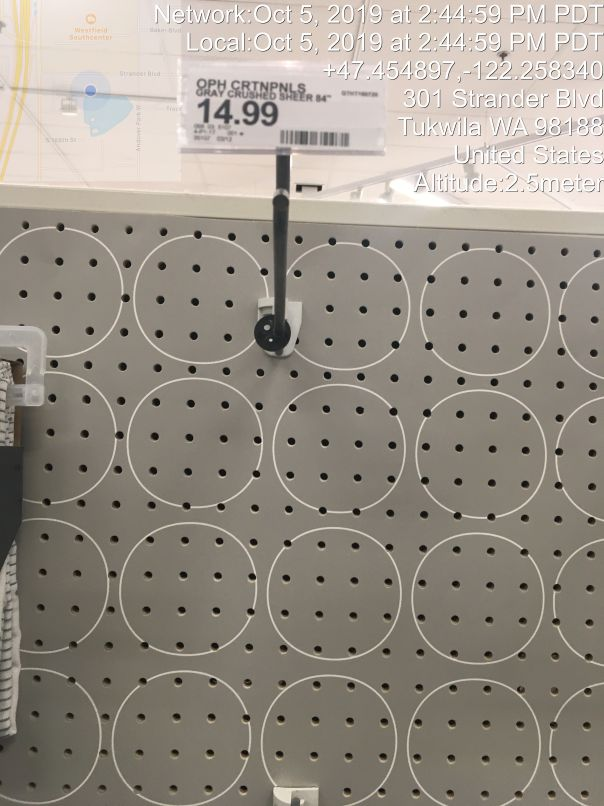Label: (173, 51, 394, 164)
Location: (395, 86, 604, 171)
Time: (149, 1, 604, 55)
Void: (140, 184, 425, 769)
